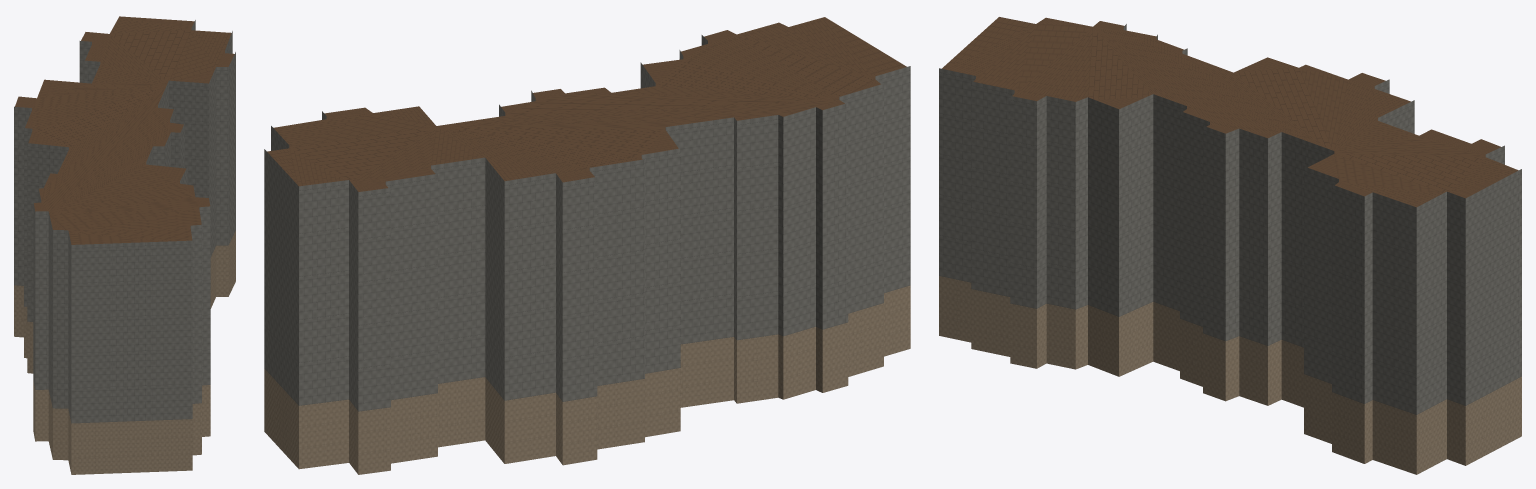
Rendered from bld_c-1_-2_546.gltf.
The picture shows the model from 3 angles, left to right: view 1: azimuth 30°, elevation 25°; view 2: azimuth 150°, elevation 25°; view 3: azimuth 270°, elevation 25°; orthographic projection. The views are drawn at different scales.
Visible parts, largest first — view 1: bld_c-1_-2_546; view 2: bld_c-1_-2_546; view 3: bld_c-1_-2_546.
Boxes of the visible parts, x1,y1,x2,y2 form: bld_c-1_-2_546: (14, 16, 235, 474); bld_c-1_-2_546: (264, 17, 910, 474); bld_c-1_-2_546: (939, 17, 1521, 474).
Size of the model in its own units: 35.3 by 22.78 by 44.97.
4 materials, 4 textured.
